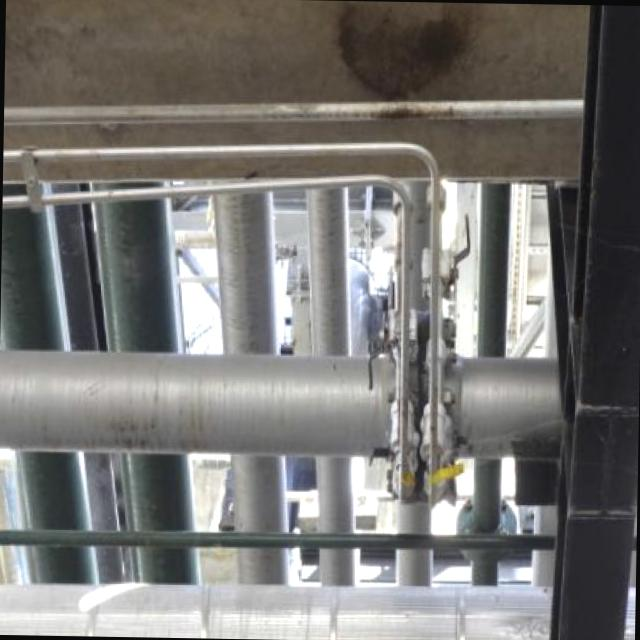gas: (0, 336, 558, 464), (81, 180, 206, 580), (0, 180, 113, 578), (202, 187, 304, 584), (3, 80, 584, 136), (297, 185, 368, 580), (0, 521, 552, 555), (473, 182, 510, 584)
